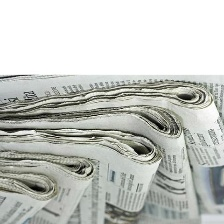news_paper: (0, 74, 224, 223)
